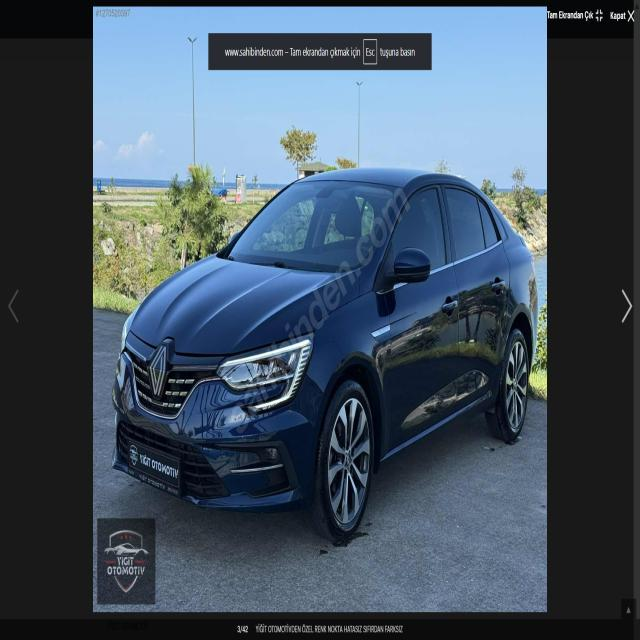renault: (143, 334, 175, 408)
